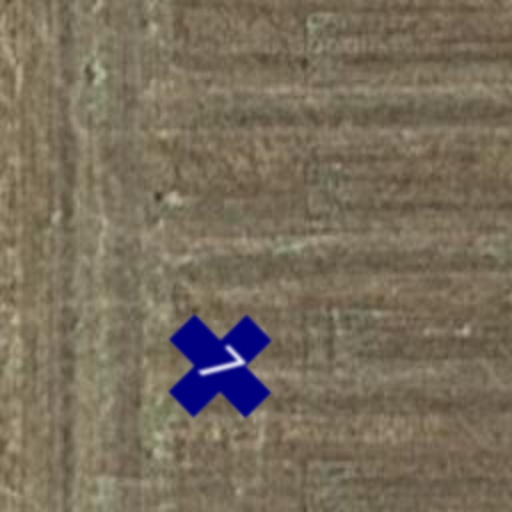cross: (140, 286, 300, 446)
